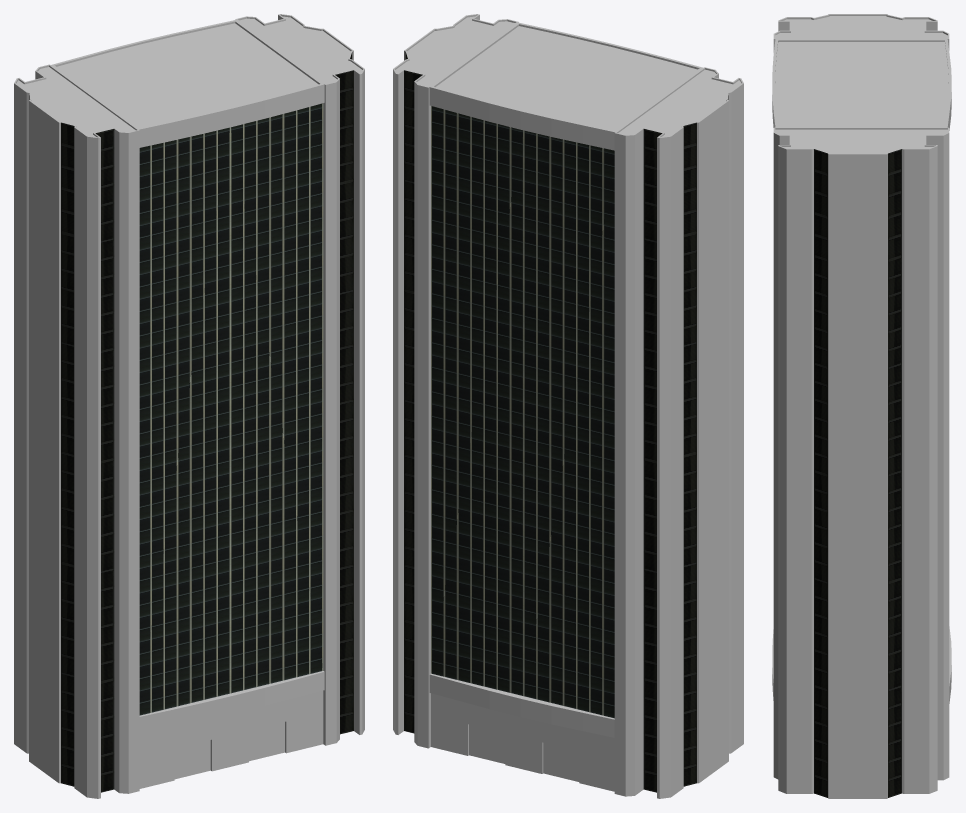
The picture shows the model from 3 angles, left to right: view 1: azimuth 30°, elevation 25°; view 2: azimuth 150°, elevation 25°; view 3: azimuth 270°, elevation 25°; orthographic projection. The views are drawn at different scales.
Parts seen in each view (by area): view 1: BC-057; view 2: BC-057; view 3: BC-057.
Part boxes in pixels (x1,y1,x2,y2): BC-057: (14, 14, 364, 798); BC-057: (393, 14, 743, 798); BC-057: (772, 14, 951, 798).
Size of what is drawn, in the model's own units: 25.22 by 54 by 13.64.
